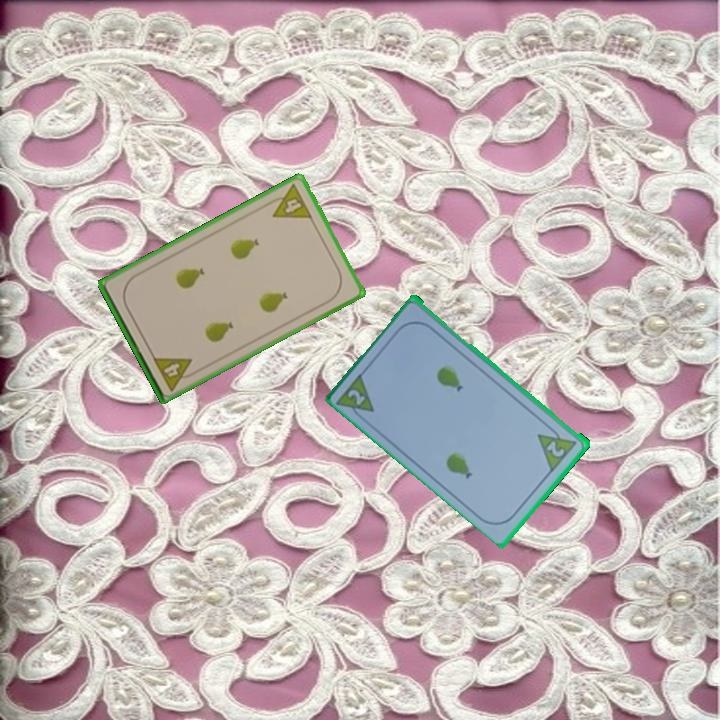2p: (334, 368, 378, 425), (543, 437, 568, 460)
4p: (263, 180, 315, 221), (149, 353, 200, 394)
